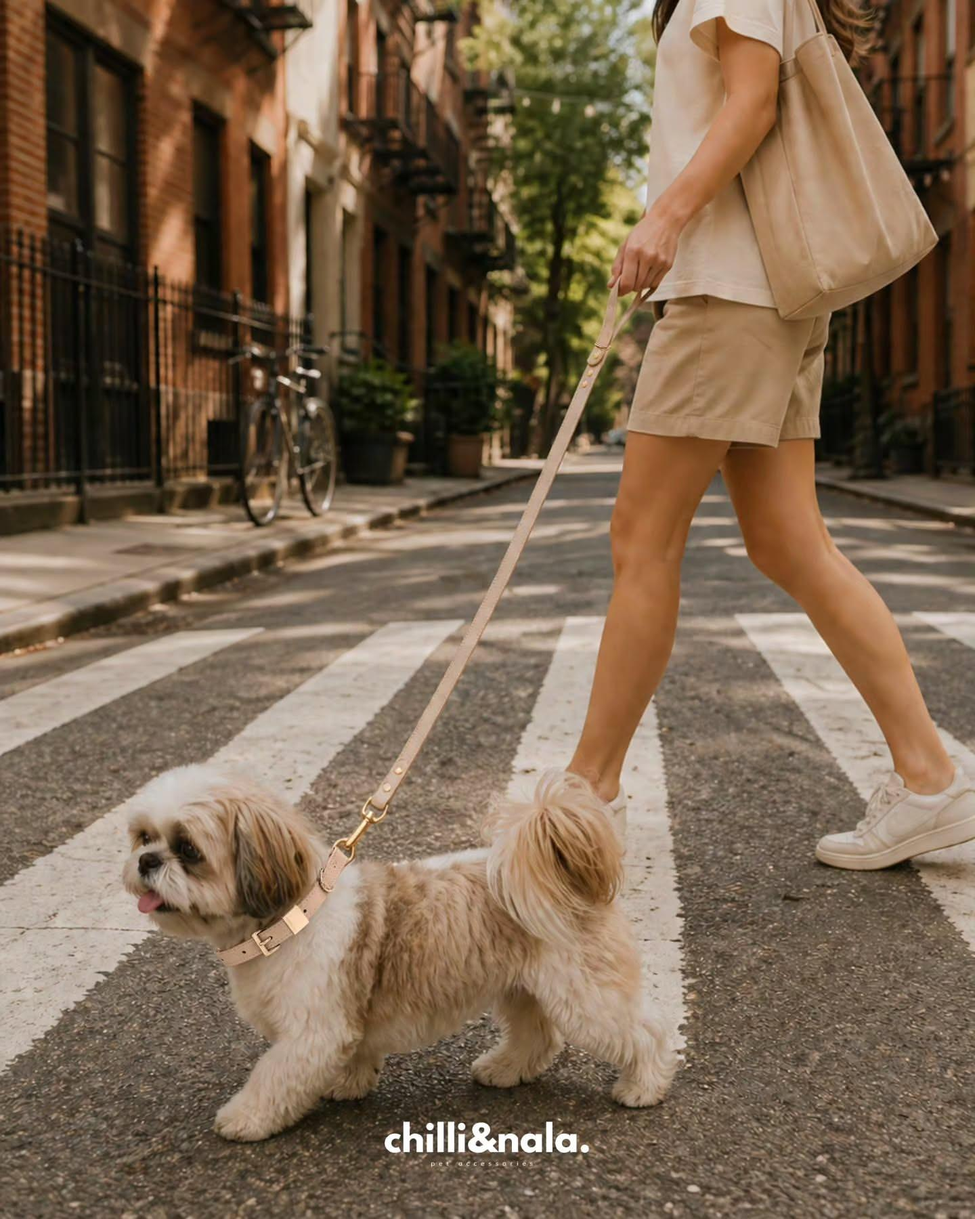adult_dog: (116, 763, 682, 1144)
non-dog: (547, 0, 975, 873)
